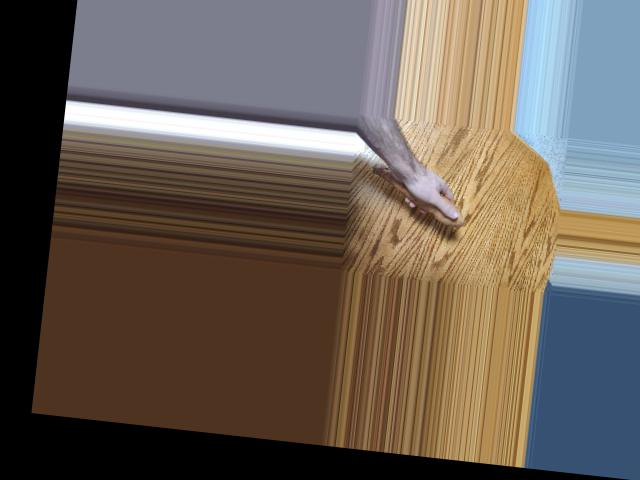sweet_potato: (364, 160, 465, 225)
